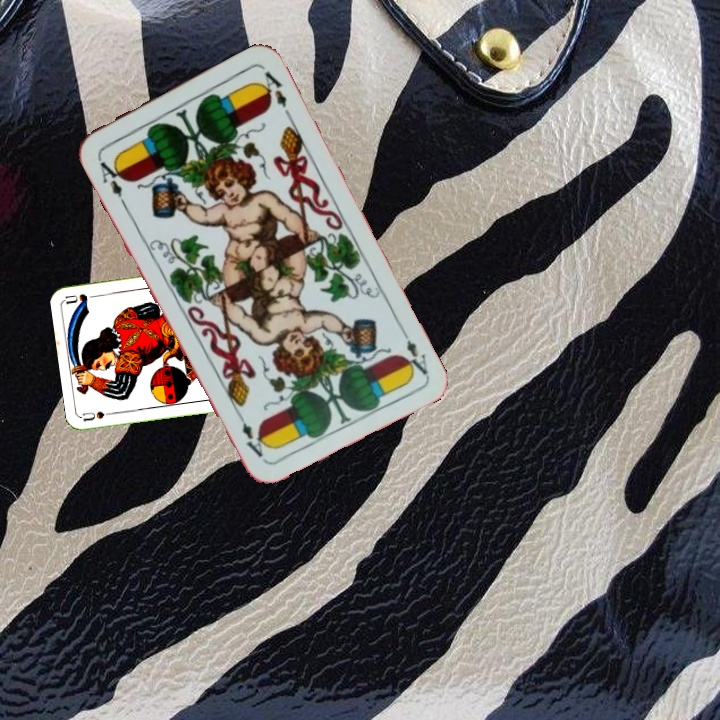EA: (93, 153, 129, 207), (396, 323, 431, 378)
SU: (80, 407, 121, 423)
